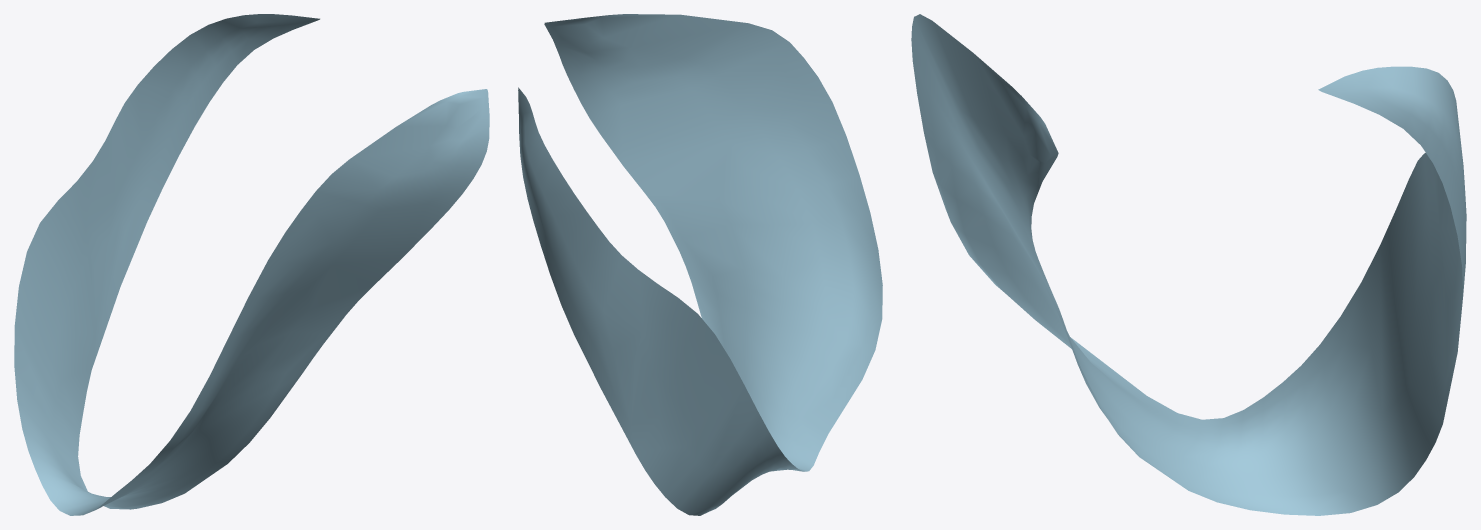
File: articulacoes-frenula-capsulae-l.glb
3 views of the same model, side by side, from view 1: azimuth 30°, elevation 25°; view 2: azimuth 150°, elevation 25°; view 3: azimuth 270°, elevation 25° (orthographic). The views are drawn at different scales.
Parts seen in each view (by area): view 1: Frenula capsulae.l; view 2: Frenula capsulae.l; view 3: Frenula capsulae.l.
Part boxes in pixels (<box>): Frenula capsulae.l: <box>14,14,489,515</box>; Frenula capsulae.l: <box>518,14,882,515</box>; Frenula capsulae.l: <box>911,14,1466,515</box>.
Size of the model in its own units: 0.0371 by 0.0416 by 0.0367.
